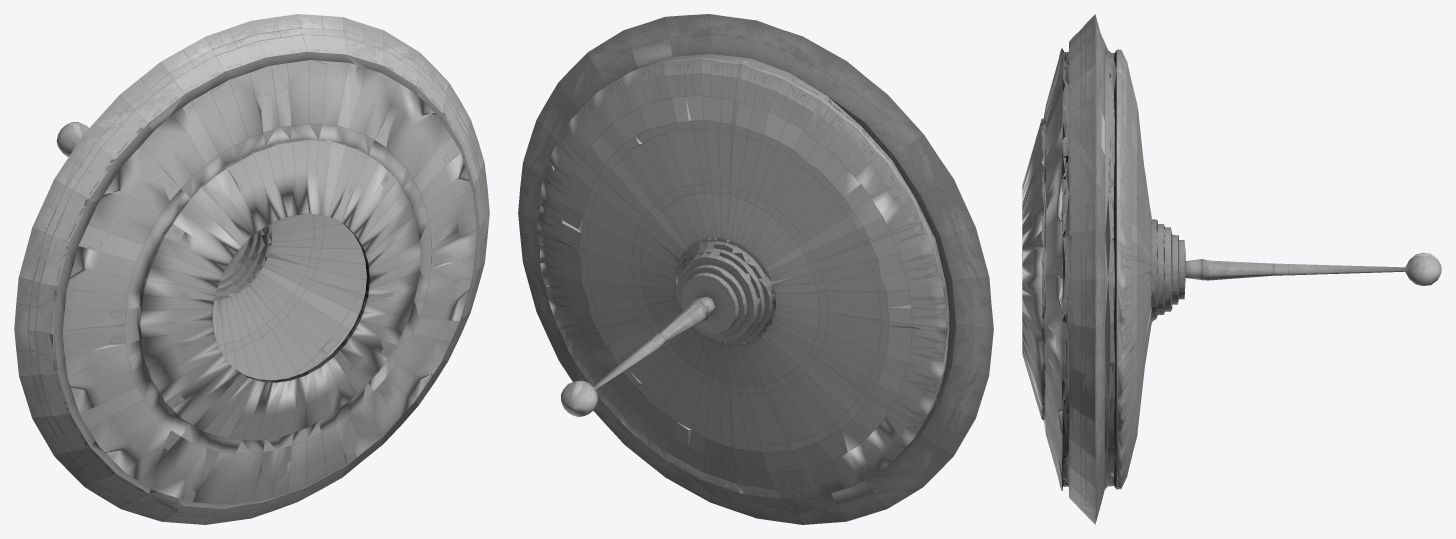
Rendered from hull_LOD1.gltf.
The picture shows the model from 3 angles, left to right: view 1: azimuth 30°, elevation 25°; view 2: azimuth 150°, elevation 25°; view 3: azimuth 270°, elevation 25°; orthographic projection. The views are drawn at different scales.
Visible parts, largest first — view 1: hull_LOD1; view 2: hull_LOD1; view 3: hull_LOD1.
Boxes of the visible parts, bbox=[...] form: hull_LOD1: bbox=[14, 14, 489, 524]; hull_LOD1: bbox=[518, 14, 993, 524]; hull_LOD1: bbox=[1022, 14, 1441, 524].
Size of the model in its own units: 11.52 by 11.52 by 9.45.
Materials: 1 (1 with a texture image).
